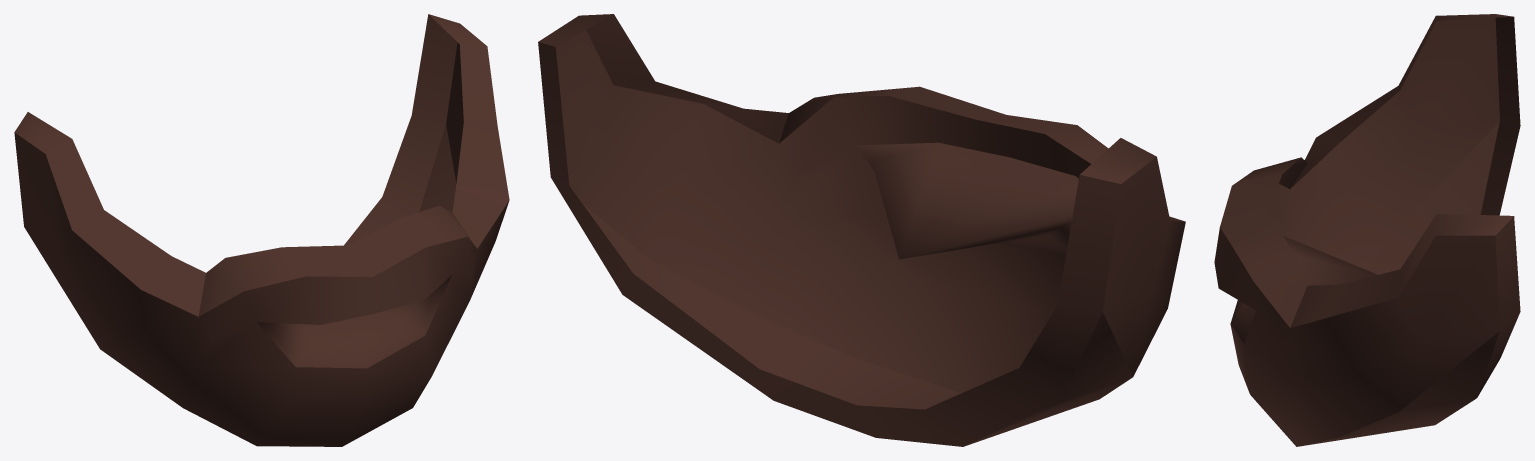
Rendered from Male_Beard_01_v2.fbx.
3 views of the same model, side by side, from view 1: azimuth 30°, elevation 25°; view 2: azimuth 150°, elevation 25°; view 3: azimuth 270°, elevation 25° (orthographic). The views are drawn at different scales.
Parts seen in each view (by area): view 1: Male_Beard_01_v2; view 2: Male_Beard_01_v2; view 3: Male_Beard_01_v2.
Part boxes in pixels (x1=…): Male_Beard_01_v2: x1=14, y1=14, x2=509, y2=446; Male_Beard_01_v2: x1=538, y1=14, x2=1185, y2=446; Male_Beard_01_v2: x1=1214, y1=14, x2=1520, y2=446.
Size of the model in its own units: 49.08 by 31.64 by 28.62.
